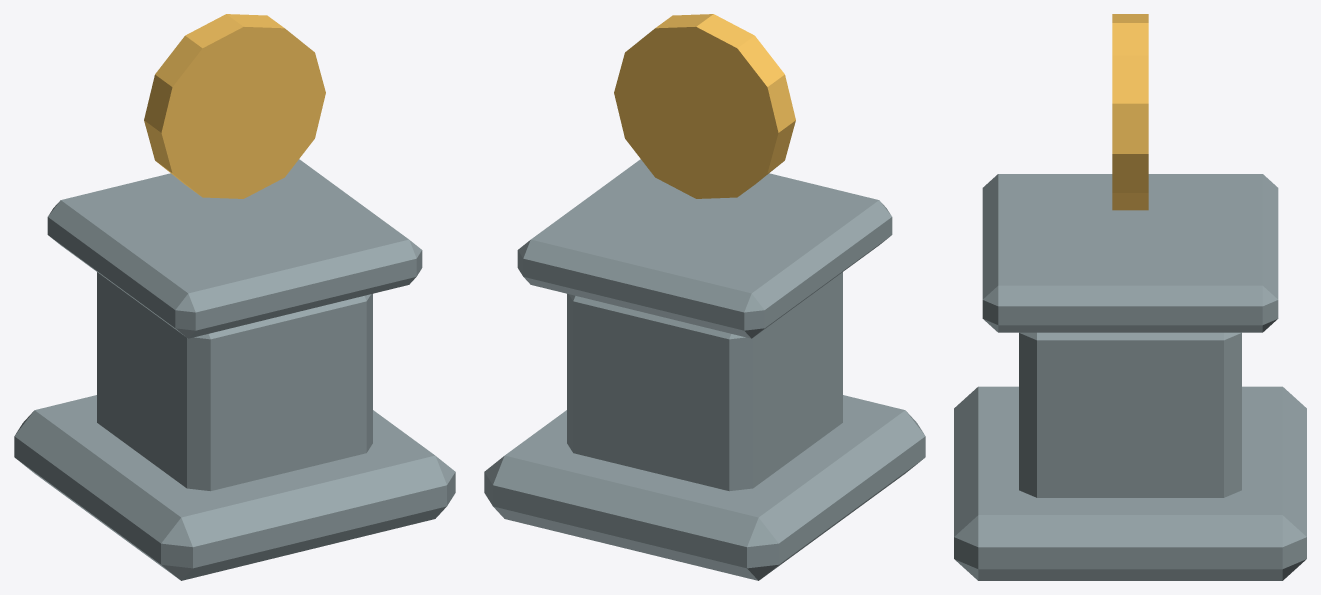
Rendered from pilar_galeao.glb.
The picture shows the model from 3 angles, left to right: view 1: azimuth 30°, elevation 25°; view 2: azimuth 150°, elevation 25°; view 3: azimuth 270°, elevation 25°; orthographic projection. The views are drawn at different scales.
Visible parts, largest first — view 1: bosque_pilar_galeao; view 2: bosque_pilar_galeao; view 3: bosque_pilar_galeao.
Boxes of the visible parts, left/top/right/bottom form: bosque_pilar_galeao: left=14, top=14, right=455, bottom=580; bosque_pilar_galeao: left=484, top=14, right=925, bottom=580; bosque_pilar_galeao: left=954, top=14, right=1306, bottom=580.
Bounding box in the file's own units: 0.68 × 1.05 × 0.68.
